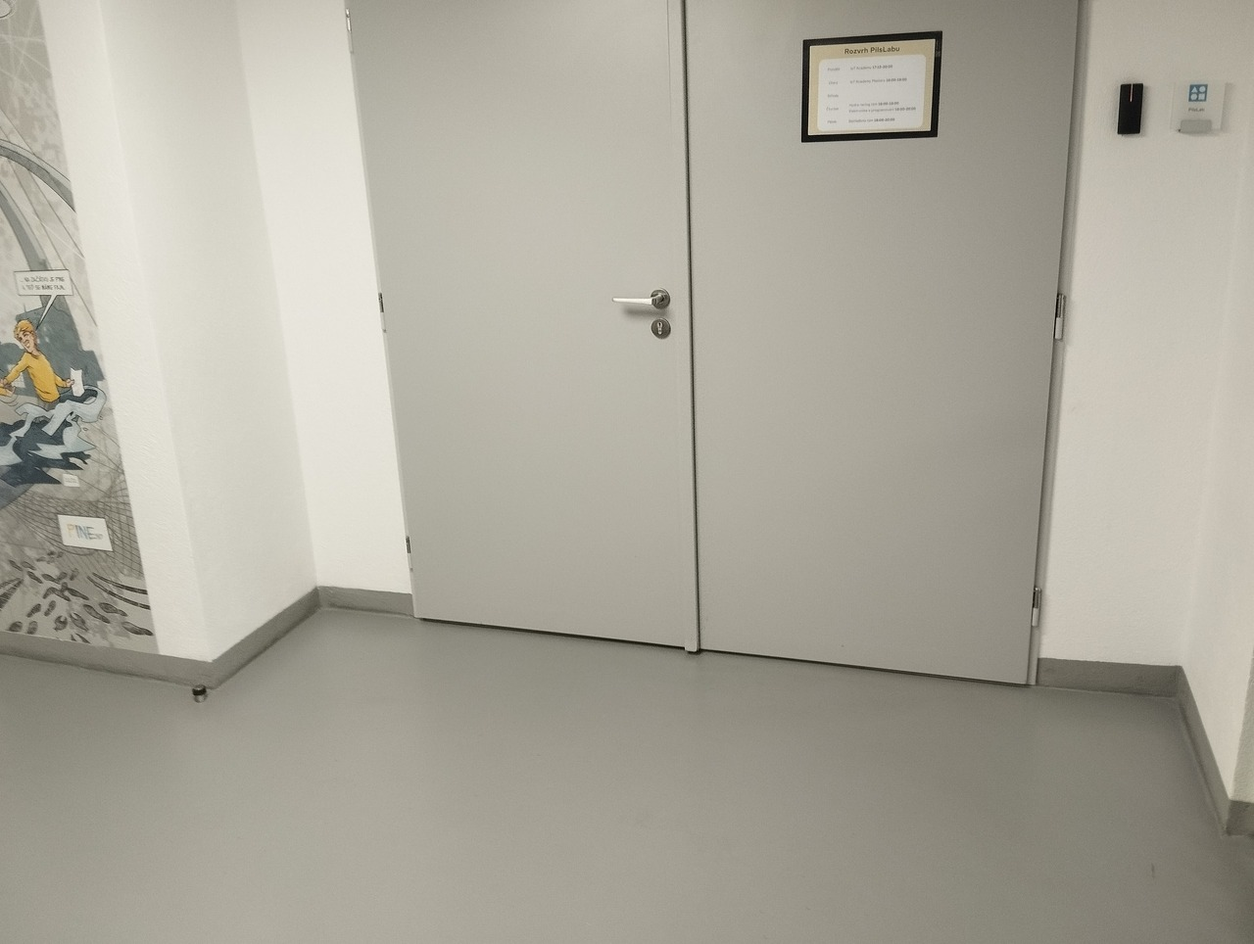Door-handle: (610, 285, 672, 324), (610, 287, 670, 311)
